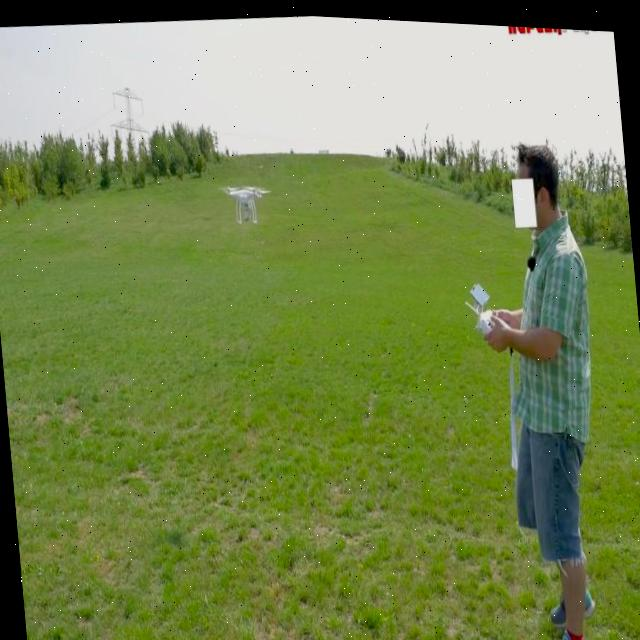drone: (220, 171, 274, 226)
